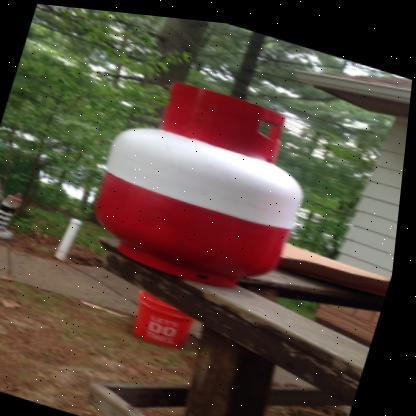gas-tank: (52, 48, 367, 319)
